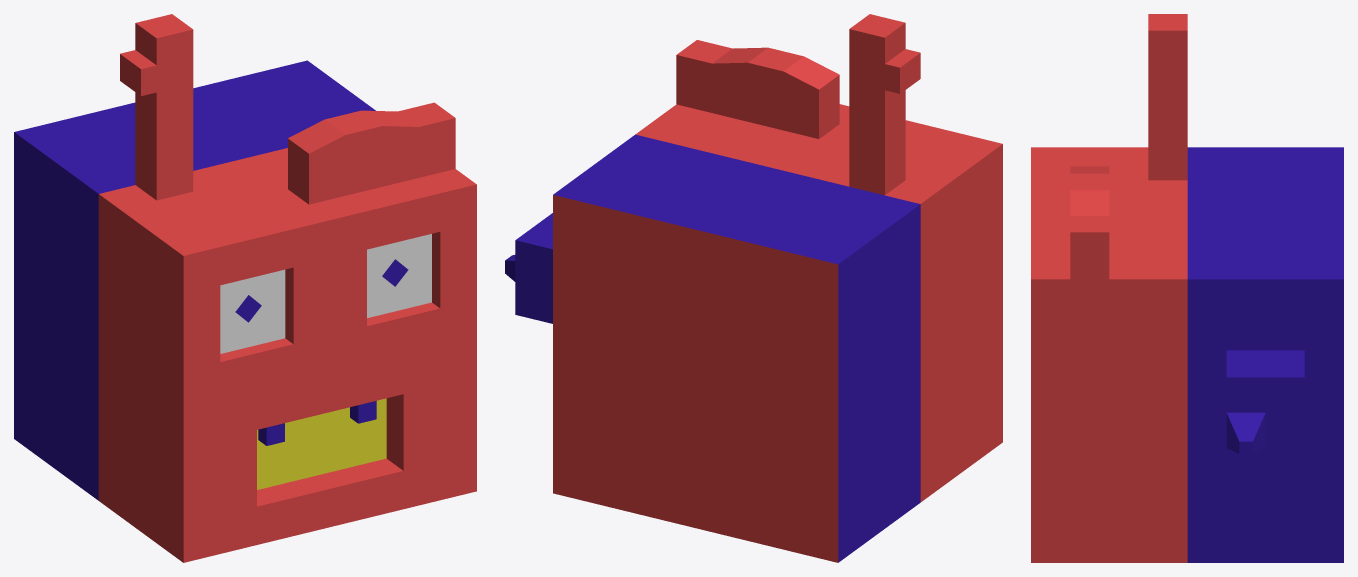
The model's file is MISC2.glb.
3 views of the same model, side by side, from view 1: azimuth 30°, elevation 25°; view 2: azimuth 150°, elevation 25°; view 3: azimuth 270°, elevation 25° (orthographic). The views are drawn at different scales.
Visible parts, largest first — view 1: Cube.001; view 2: Cube.001; view 3: Cube.001.
Boxes of the visible parts, x1,y1,x2,y2 form: Cube.001: (14,14,476,562); Cube.001: (505,14,1002,562); Cube.001: (1031,14,1343,562).
Bounding box in the file's own units: 2.67 × 3.06 × 2.
